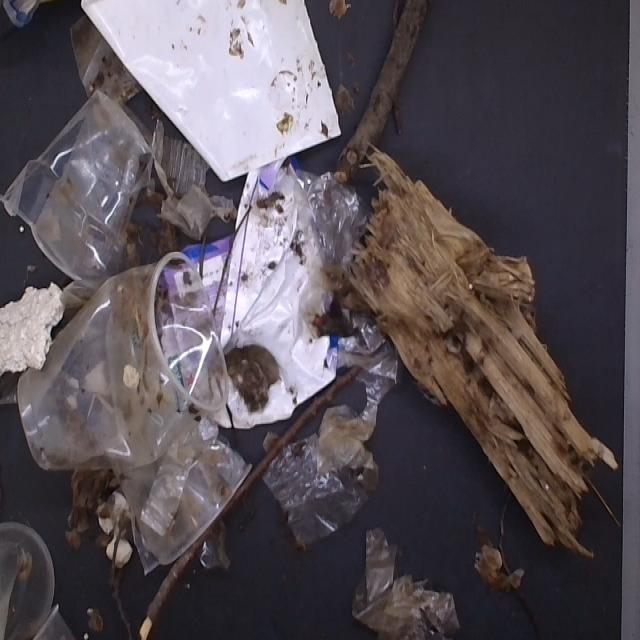food_packaging: (77, 0, 381, 181)
food_wrapping: (173, 170, 342, 424)
plastic_cups: (0, 275, 239, 462), (96, 365, 260, 563), (2, 92, 152, 290), (0, 503, 102, 640)
plastic_films: (258, 152, 396, 418), (262, 396, 402, 555), (346, 530, 453, 640)
styrofoam: (0, 284, 71, 373)
